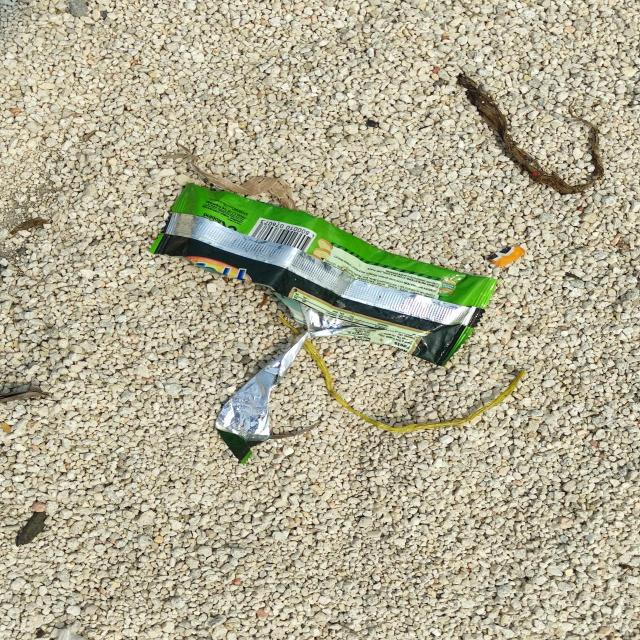litter: (147, 182, 497, 362)
